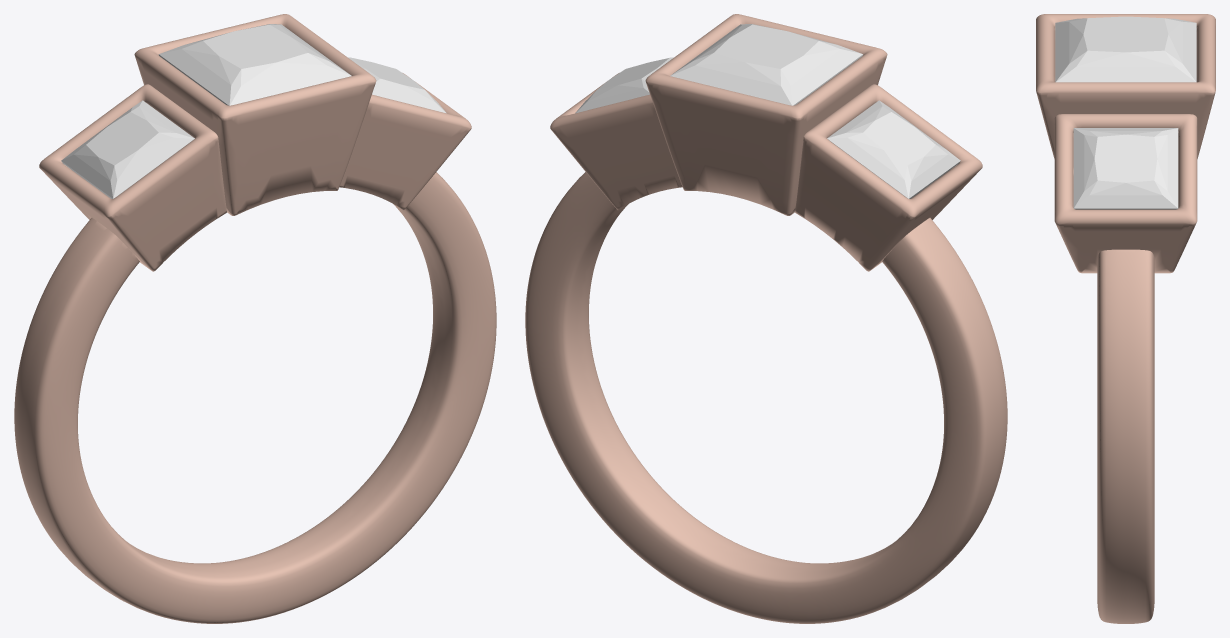
File: diamond-princess-rosegold-bezelset-straightband-3stone.glb
The picture shows the model from 3 angles, left to right: view 1: azimuth 30°, elevation 25°; view 2: azimuth 150°, elevation 25°; view 3: azimuth 270°, elevation 25°; orthographic projection.
Parts seen in each view (by area): view 1: metal, stone, side, side.001; view 2: metal, stone, side, side.001; view 3: metal, stone, side.001.
Boxes of the visible parts, bbox=[...] form: metal: bbox=[14, 14, 496, 623]; stone: bbox=[158, 24, 351, 105]; side: bbox=[61, 100, 194, 198]; side.001: bbox=[348, 57, 446, 113]; metal: bbox=[525, 14, 1007, 623]; stone: bbox=[670, 24, 863, 105]; side: bbox=[827, 100, 960, 198]; side.001: bbox=[575, 57, 673, 113]; metal: bbox=[1036, 14, 1215, 623]; stone: bbox=[1055, 16, 1196, 82]; side.001: bbox=[1073, 128, 1178, 209].
Size of the model in its own units: 20.51 by 23.85 by 6.89.
